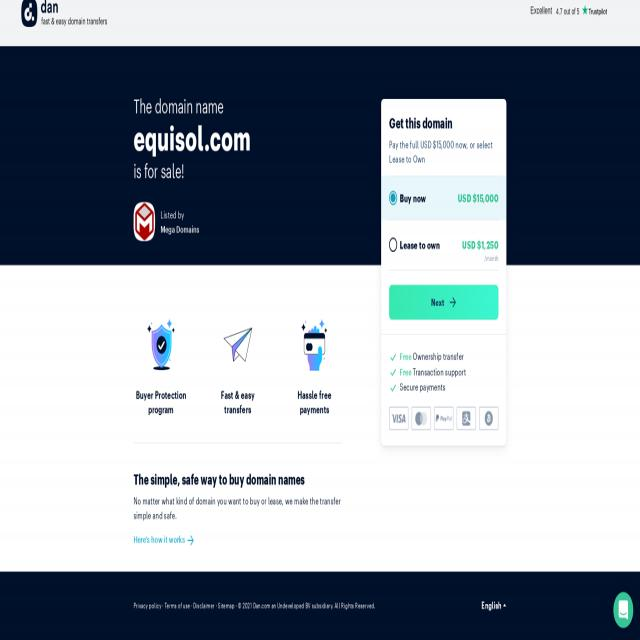button: (281, 287, 348, 435), (206, 288, 270, 437), (126, 293, 192, 430), (389, 285, 498, 320), (21, 0, 107, 28), (133, 202, 155, 241), (614, 591, 633, 629), (478, 406, 498, 429), (411, 407, 431, 429), (434, 407, 453, 430), (457, 407, 476, 430), (389, 406, 407, 428), (187, 533, 194, 548)
field: (389, 190, 397, 208), (389, 350, 397, 365), (389, 365, 397, 380), (389, 381, 397, 396), (390, 238, 397, 252)
